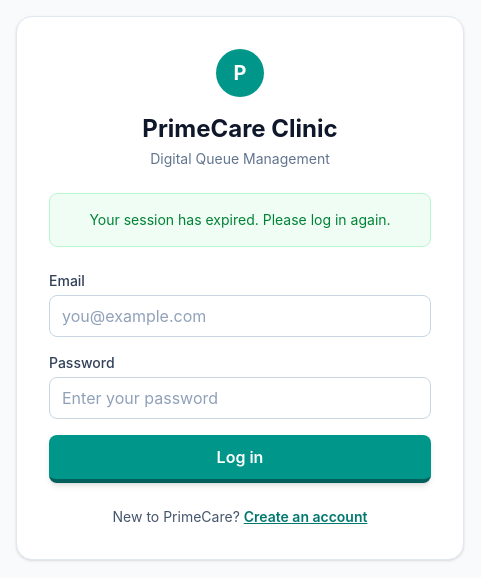
Login › explains why a session ended mid-flow until the next submit
Expected: the text "Your session has expired. Please log in again." is shown, [49,193,431,247]
Expected: the message reads "Your session has expired. Please log in again.", [89,211,391,228]
In the field labelled "Email": x=240, y=316 [49,295,431,337], type "patient@example.com"
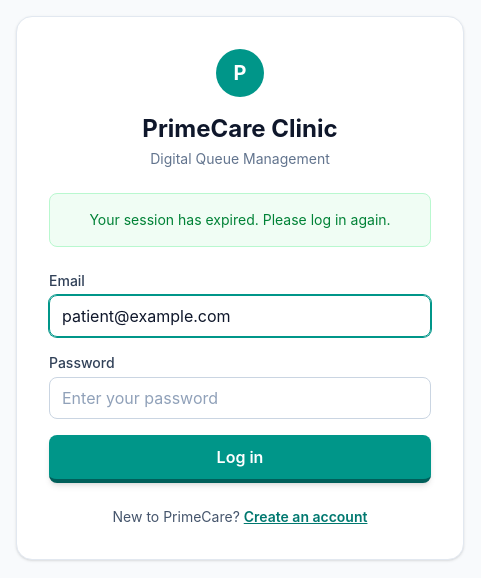
In the password field labelled "Password": x=240, y=398 [49,377,431,419], type "wrong-pass"
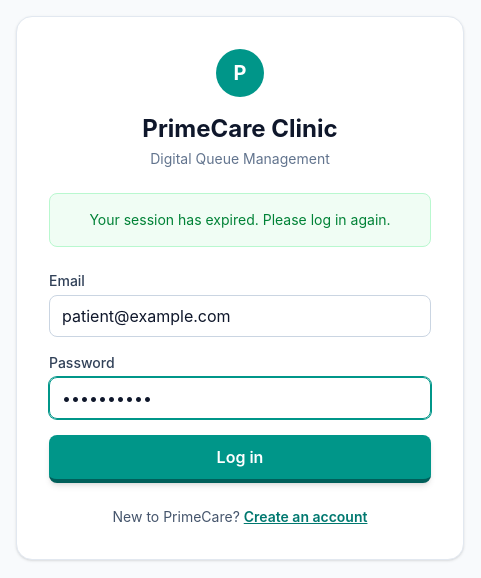
Click the button "Log in": x=240, y=459 [49,435,431,483]
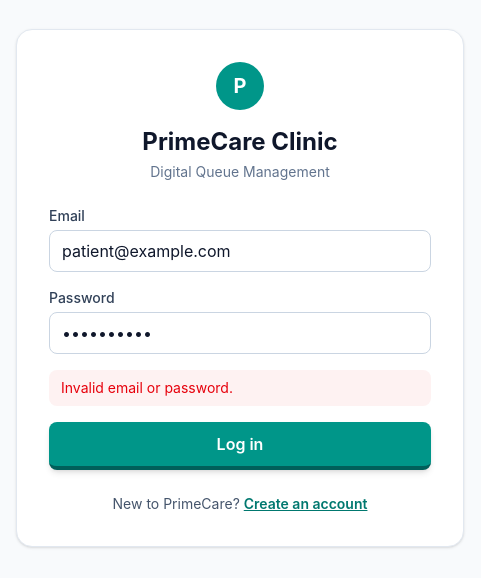
Expected: the message reads "Invalid email or password.", [61,379,233,396]
Expected: the text "Your session has expired. Please log in again." is gone
